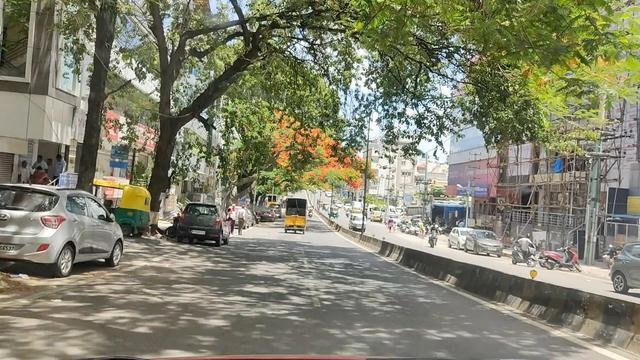HMV: (280, 199, 311, 236)
LMV: (182, 198, 215, 244)
